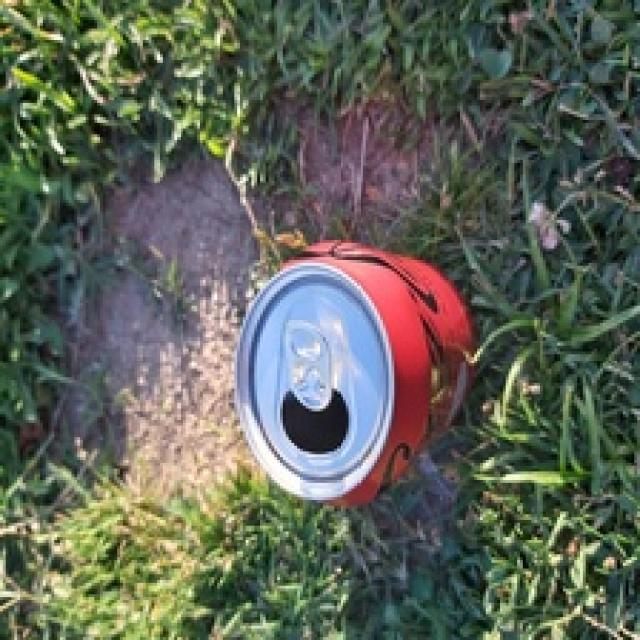recyclable: (234, 236, 472, 506)
